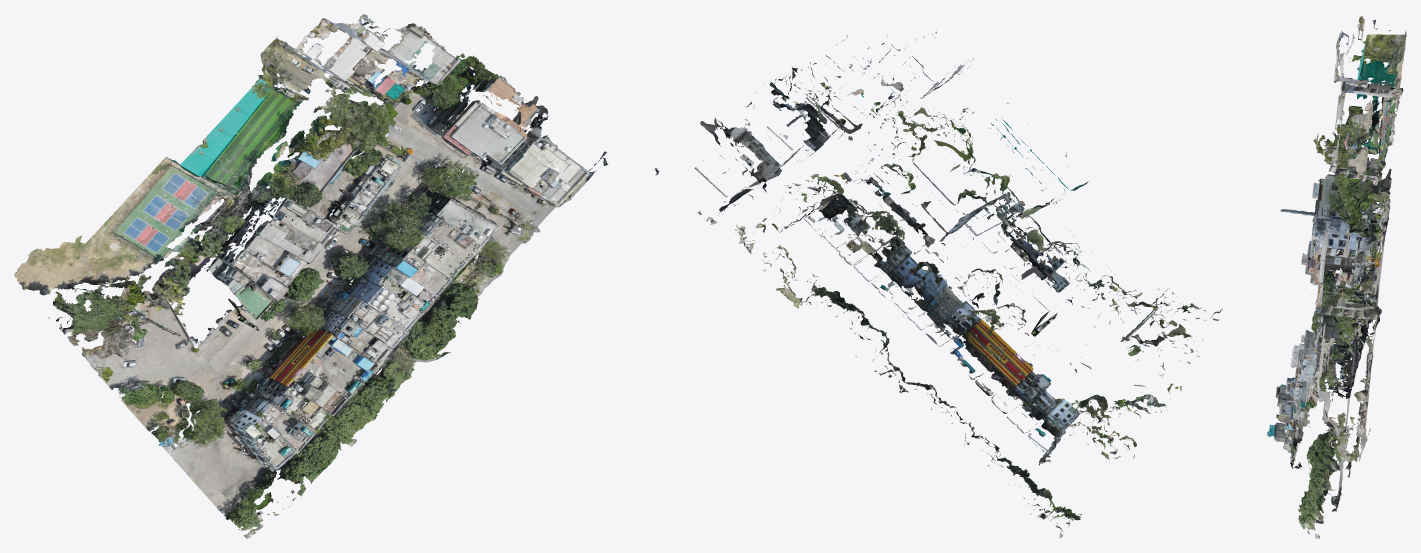
File: outdoor_model.glb
3 views of the same model, side by side, from view 1: azimuth 30°, elevation 25°; view 2: azimuth 150°, elevation 25°; view 3: azimuth 270°, elevation 25° (orthographic). The views are drawn at different scales.
Parts seen in each view (by area): view 1: Mesh_0.003; view 2: Mesh_0.003; view 3: Mesh_0.003.
Boxes of the visible parts, x1=… form: Mesh_0.003: x1=14, y1=14, x2=608, y2=538; Mesh_0.003: x1=655, y1=31, x2=1222, y2=538; Mesh_0.003: x1=1267, y1=15, x2=1406, y2=538.
Bounding box in the file's own units: 8.07 × 6.35 × 1.39.
62 materials, 62 textured.
